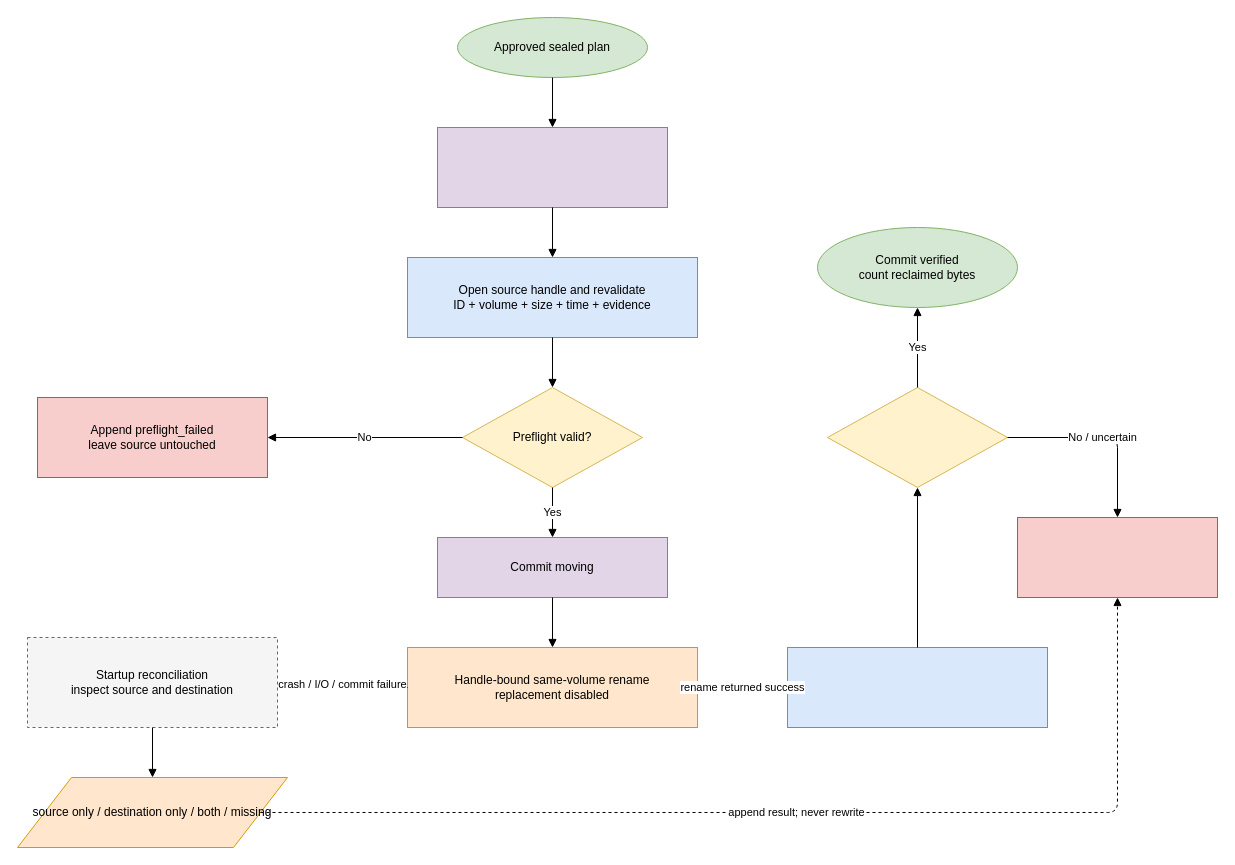
Some shapes in this 1235 by 865 pixel diagram are drawn without their labels. Here are the shapes that lost their labels. From the top down, the box of each, then its label:
(436, 126, 668, 208): Write transaction = planned commit FULL + flush audit
(826, 386, 1008, 488): Verification valid?
(1016, 516, 1218, 598): Append recovery_required preserve every extant copy
(786, 646, 1048, 728): Open destination and verify size + BLAKE3 + SHA-256
